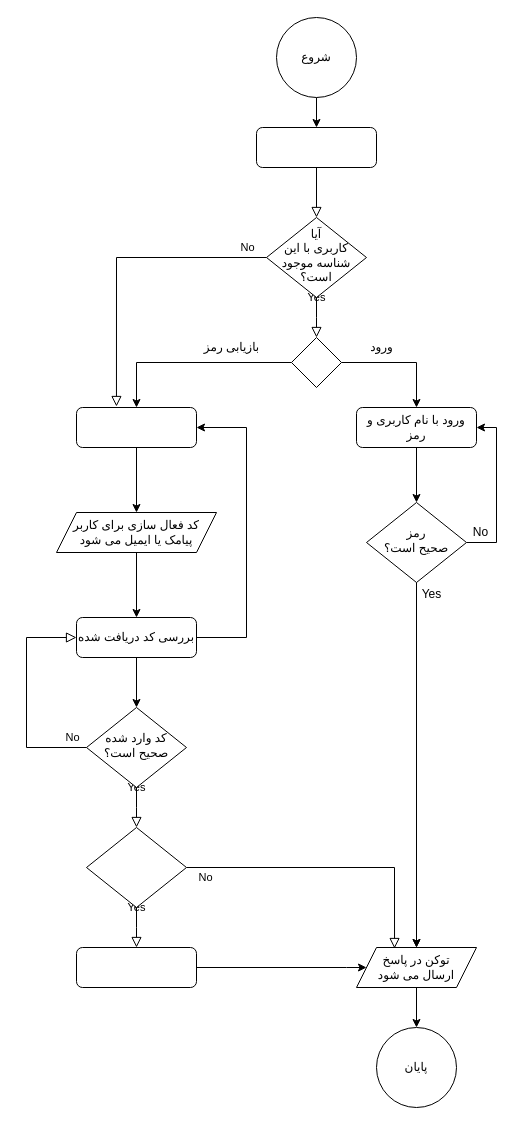
Some shapes in this 522 by 1125 pixel diagram are drawn without their labels. The shapes that lost their labels are listed below. From the top down, each one's box as (x1, y1, x2, y2) in pixels, then its label:
(256, 126, 376, 168): درخواست ورود
(76, 406, 196, 448): درخواست ارسال کد فعال سازی
(86, 826, 186, 908): کاربر نیاز به ثبت نام دارد؟
(76, 946, 196, 988): ارسال اطلاعات ثبت نام
